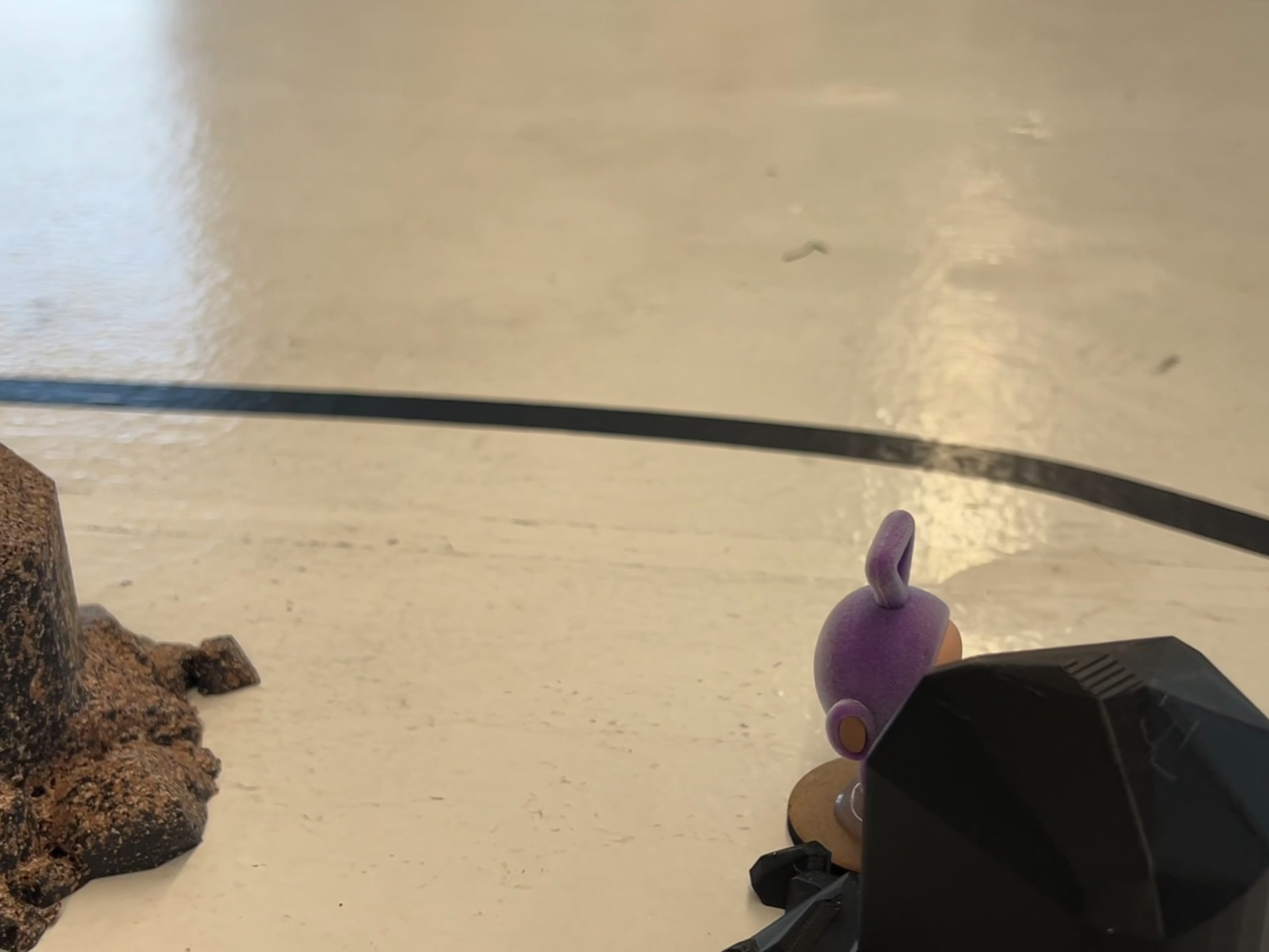teletubby: (814, 510, 962, 761)
